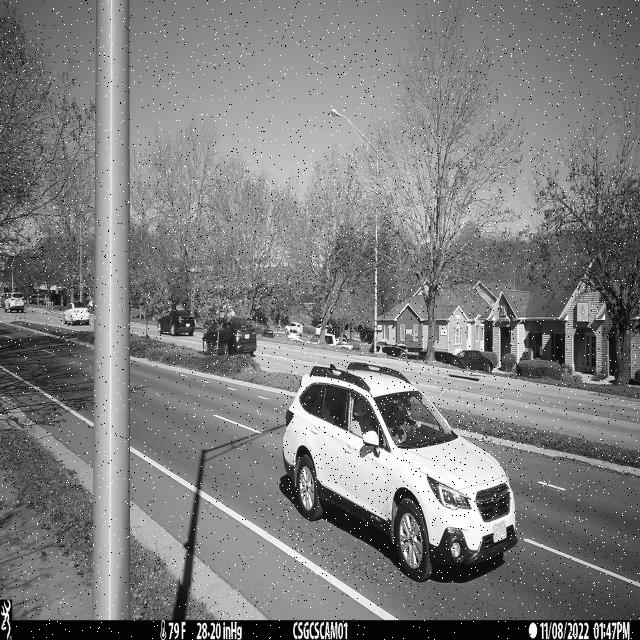SUV: (282, 362, 521, 584)
